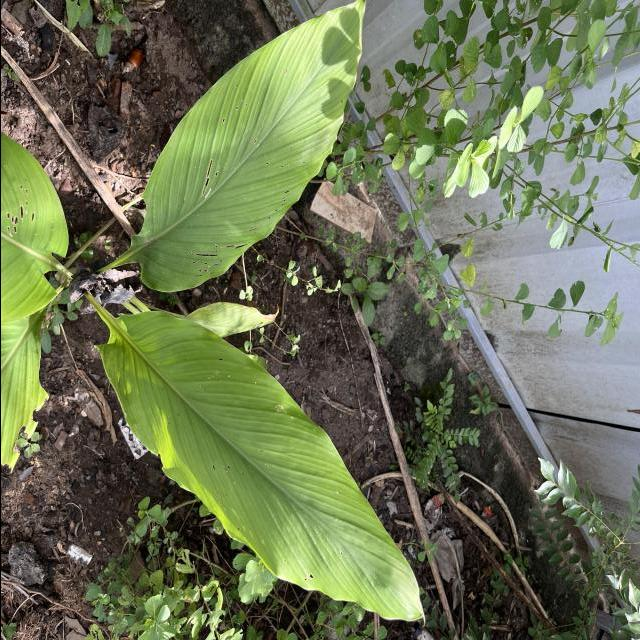Curcuma longa: (93, 302, 432, 634), (124, 0, 368, 297)
